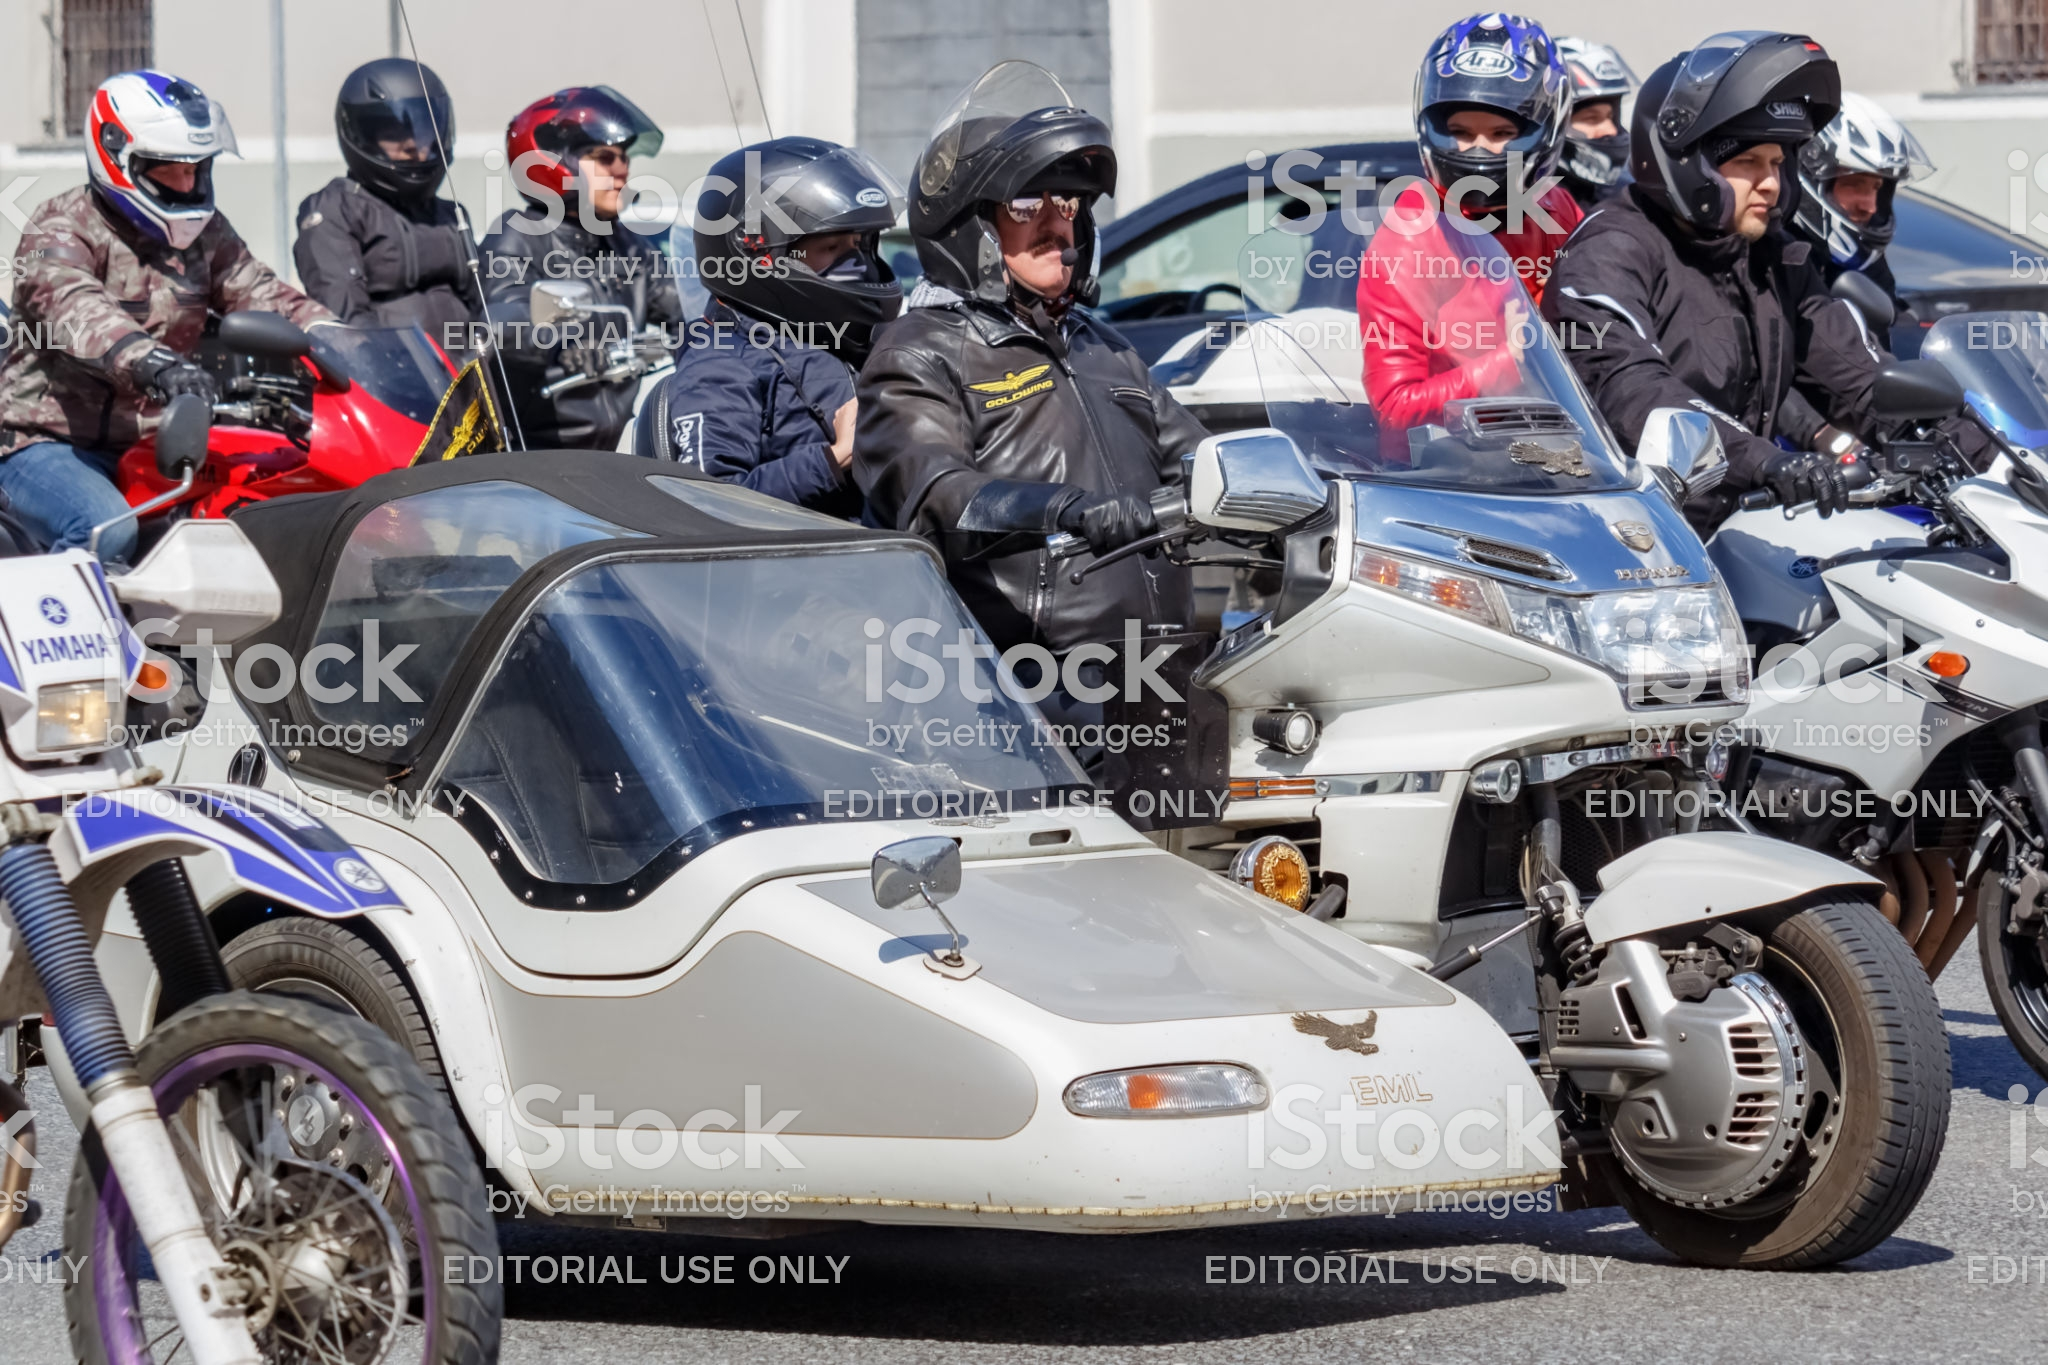helmet: (684, 146, 901, 358), (909, 102, 1128, 300), (1629, 50, 1830, 225), (59, 66, 241, 242), (1405, 29, 1588, 193), (513, 94, 672, 242), (318, 53, 463, 198)
